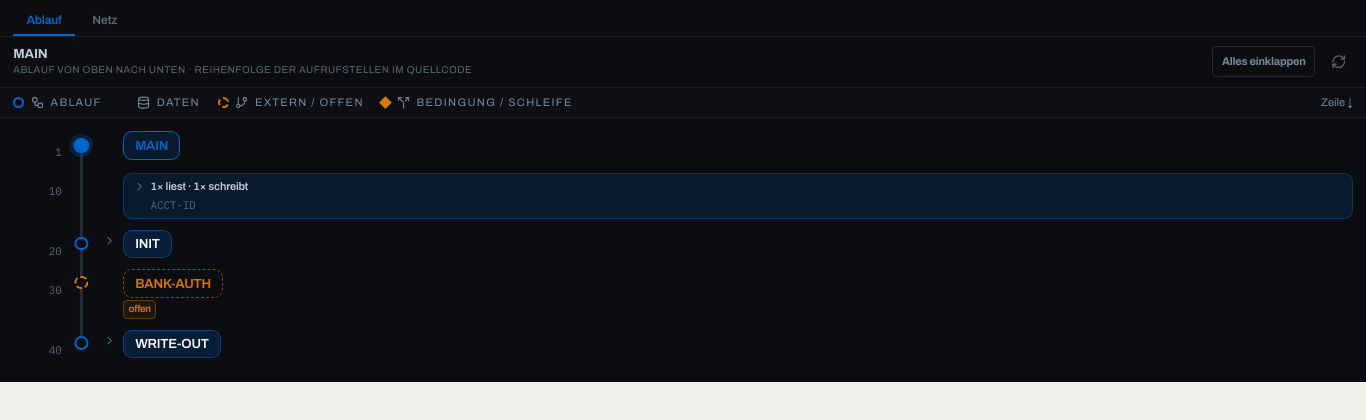
ProcessView – Ablauf › klappt gebündelte Datenzugriffe einzeln auf
Click the button "1× liest · 1× schreibt" at (199, 186), box [133,178,1343,195]
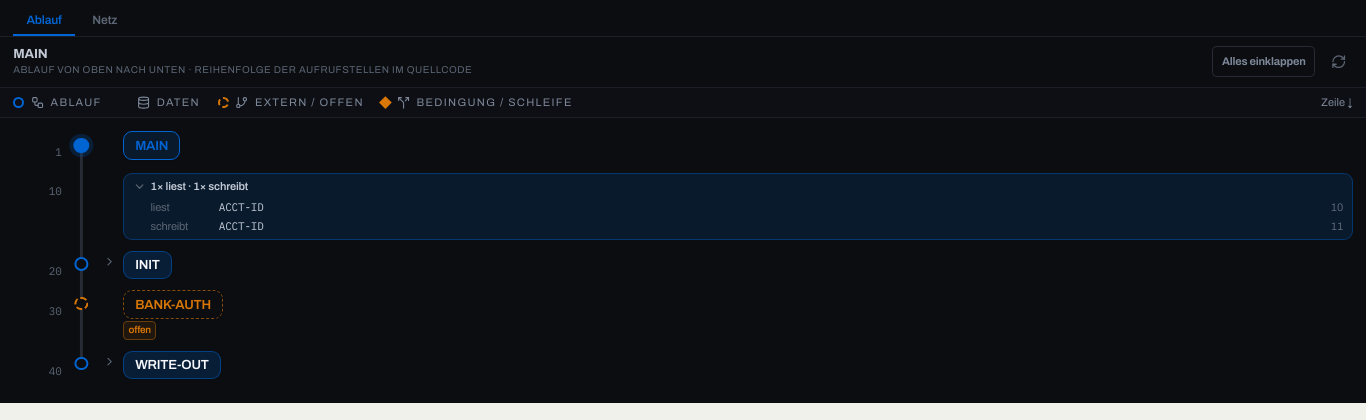
Check: the text "schreibt" is shown, box [151,220,188,232]
Check: the number of buttons "ACCT-ID" is 2, box [219,199,264,216]; [219,218,264,234]
